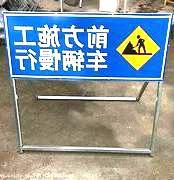sign: (5, 15, 164, 80)
